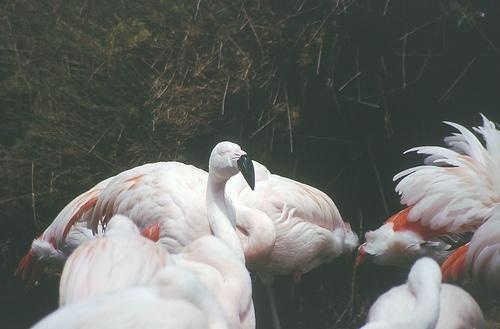bird: (358, 115, 500, 288), (225, 158, 362, 328), (92, 141, 256, 268), (31, 264, 228, 329), (55, 215, 164, 310), (359, 257, 487, 329)
